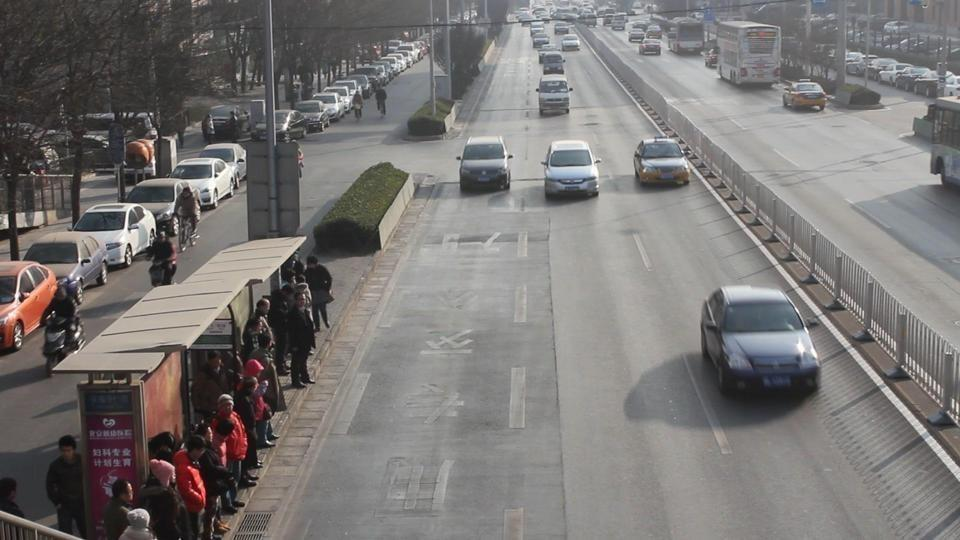car: (699, 285, 821, 398), (69, 202, 157, 269), (21, 232, 110, 296), (125, 167, 233, 217), (0, 261, 58, 354), (124, 177, 199, 237), (540, 138, 602, 199), (170, 157, 235, 210), (457, 134, 514, 193), (632, 137, 691, 187), (198, 143, 248, 187), (249, 108, 309, 142), (201, 105, 250, 142), (781, 80, 830, 112), (537, 77, 572, 117), (894, 66, 940, 94), (311, 92, 347, 122), (295, 100, 328, 131), (540, 51, 566, 73), (639, 36, 663, 56), (559, 34, 580, 51)
